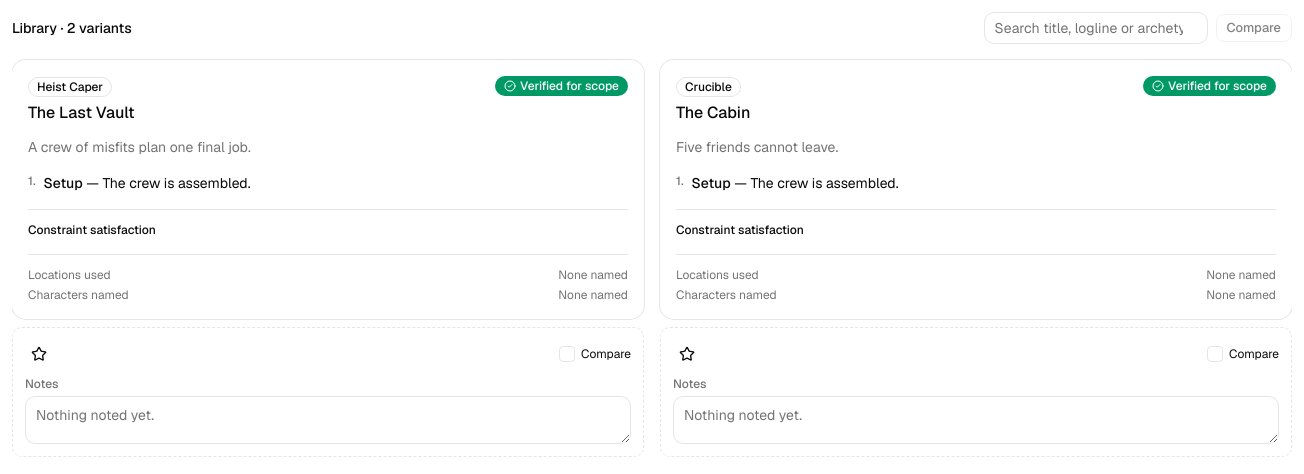
Test: VariantGallery › filters by title, logline and archetype label
The width and height of the screenshot is (1304, 474).
Expected: the text "The Last Vault" is shown, [28,101,135,125]
Expected: the text "The Cabin" is shown, [676,101,750,125]
Step 1. Type "cabin" into the search field named "Search variants" → {"x": 1096, "y": 28}, box [984,12,1208,44]
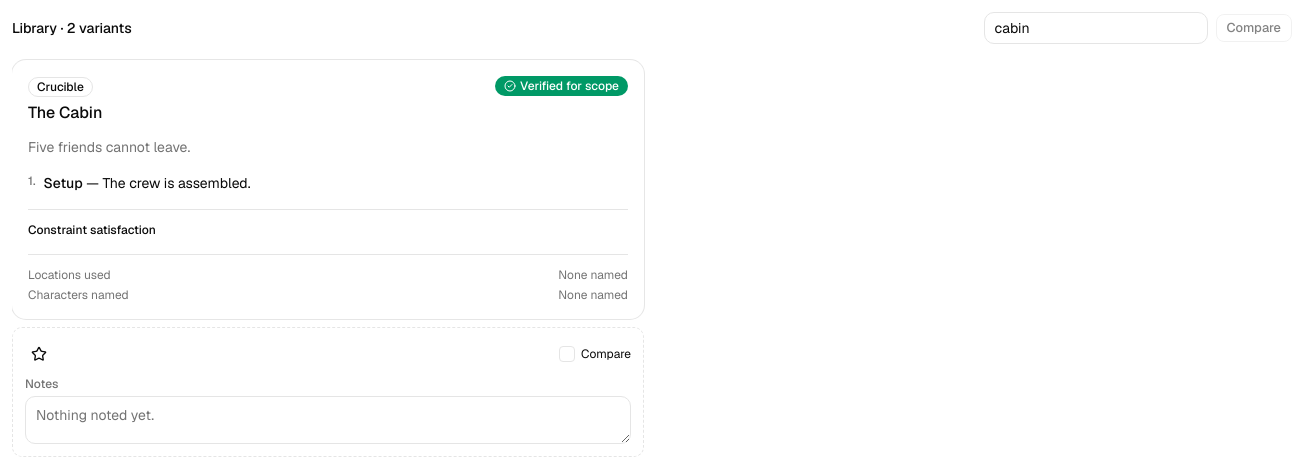
Expected: the text "The Cabin" is shown, [28,101,102,125]
Expected: the text "The Last Vault" is gone
